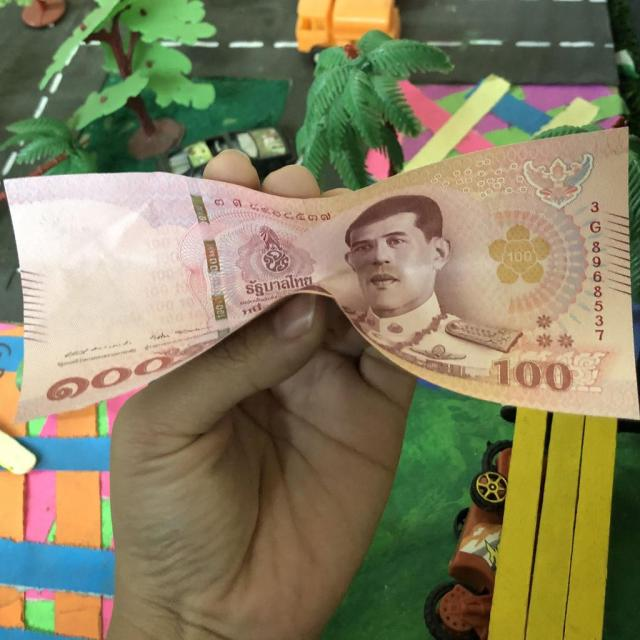THAI100: (5, 129, 639, 420)
